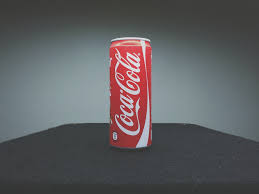coke: (108, 37, 154, 149)
